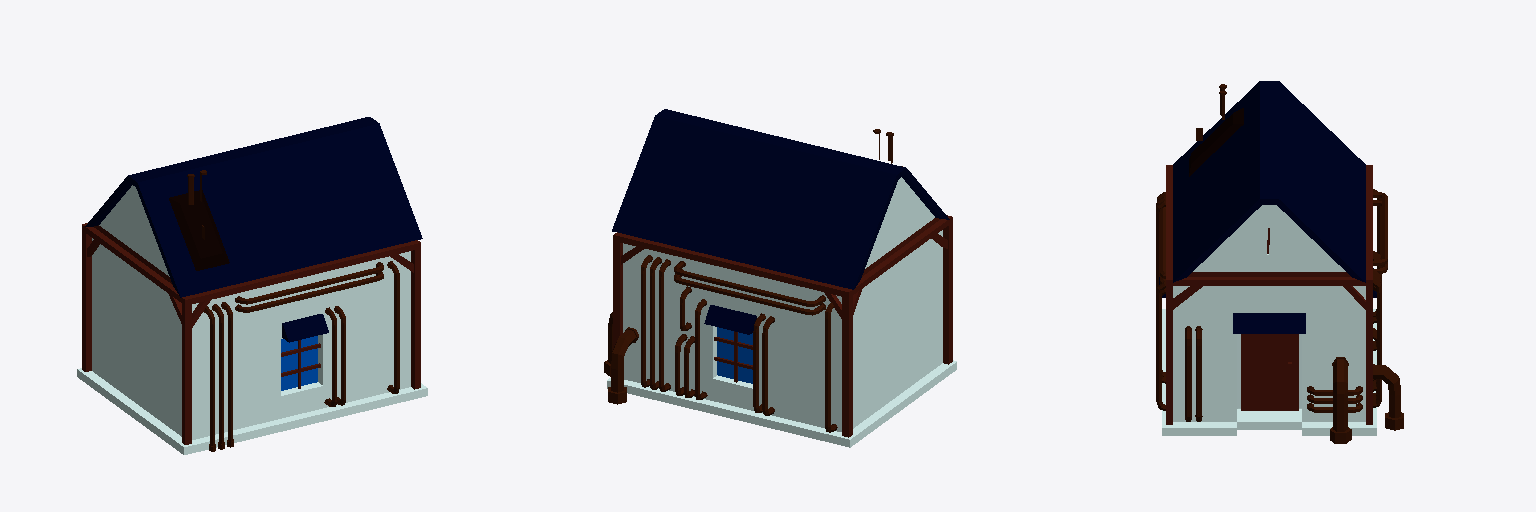
File: house_with_pipes_1_story.obj
3 views of the same model, side by side, from view 1: azimuth 30°, elevation 25°; view 2: azimuth 150°, elevation 25°; view 3: azimuth 270°, elevation 25° (orthographic).
Visible parts, largest first — view 1: house, gear; view 2: house, gear; view 3: house, gear.
Boxes of the visible parts, x1=… form: house: x1=77, y1=117, x2=427, y2=454; gear: x1=187, y1=170, x2=399, y2=451; house: x1=607, y1=109, x2=956, y2=447; gear: x1=604, y1=129, x2=902, y2=432; house: x1=1159, y1=81, x2=1376, y2=435; gear: x1=1156, y1=84, x2=1403, y2=443.
Bounding box in the file's own units: 9.35 × 8.52 × 7.72.